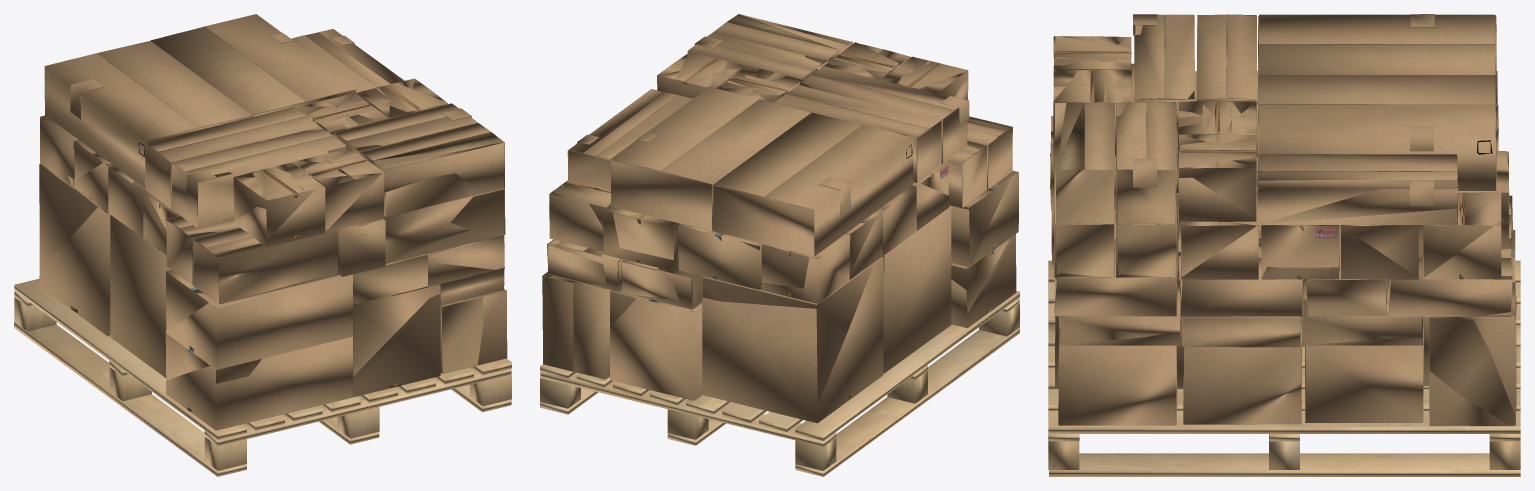
File: loaded.glb
3 renders of one model, left to right at view 1: azimuth 30°, elevation 25°; view 2: azimuth 150°, elevation 25°; view 3: azimuth 270°, elevation 25°, orthographic. The views are drawn at different scales.
Visible parts, largest first — view 1: sm_pallet_assembly_brown_e04_mesh_00; view 2: sm_pallet_assembly_brown_e04_mesh_00; view 3: sm_pallet_assembly_brown_e04_mesh_00.
Boxes of the visible parts, <box> form: sm_pallet_assembly_brown_e04_mesh_00: <box>14,14,511,476</box>; sm_pallet_assembly_brown_e04_mesh_00: <box>540,14,1019,476</box>; sm_pallet_assembly_brown_e04_mesh_00: <box>1048,14,1520,476</box>.
Size of the model in its own units: 1 by 0.8639 by 1.2.
Materials: 3 (3 with a texture image).
